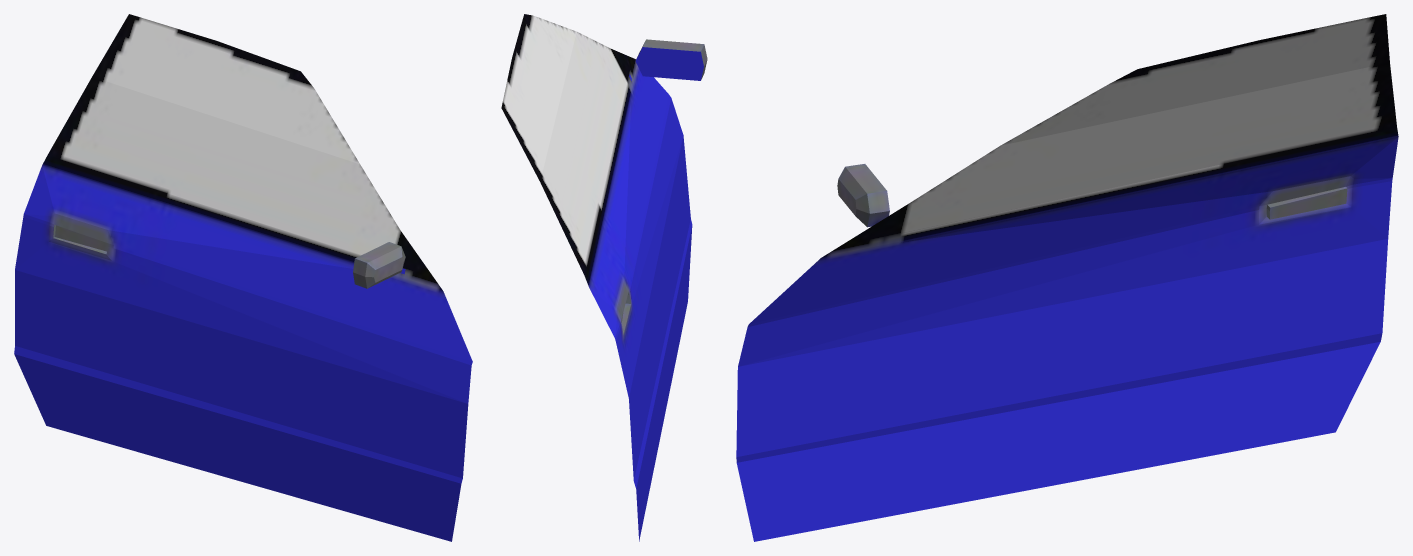
Rendered from rightdoor5.obj.
3 renders of one model, left to right at view 1: azimuth 30°, elevation 25°; view 2: azimuth 150°, elevation 25°; view 3: azimuth 270°, elevation 25°, orthographic. The views are drawn at different scales.
Visible parts, largest first — view 1: rightdoor; view 2: rightdoor; view 3: rightdoor.
Part boxes in pixels (x1,y1,x2,y2): rightdoor: (14, 14, 472, 541); rightdoor: (501, 14, 707, 541); rightdoor: (736, 14, 1398, 541).
Bounding box in the file's own units: 0.4229 × 0.7008 × 0.8706.
